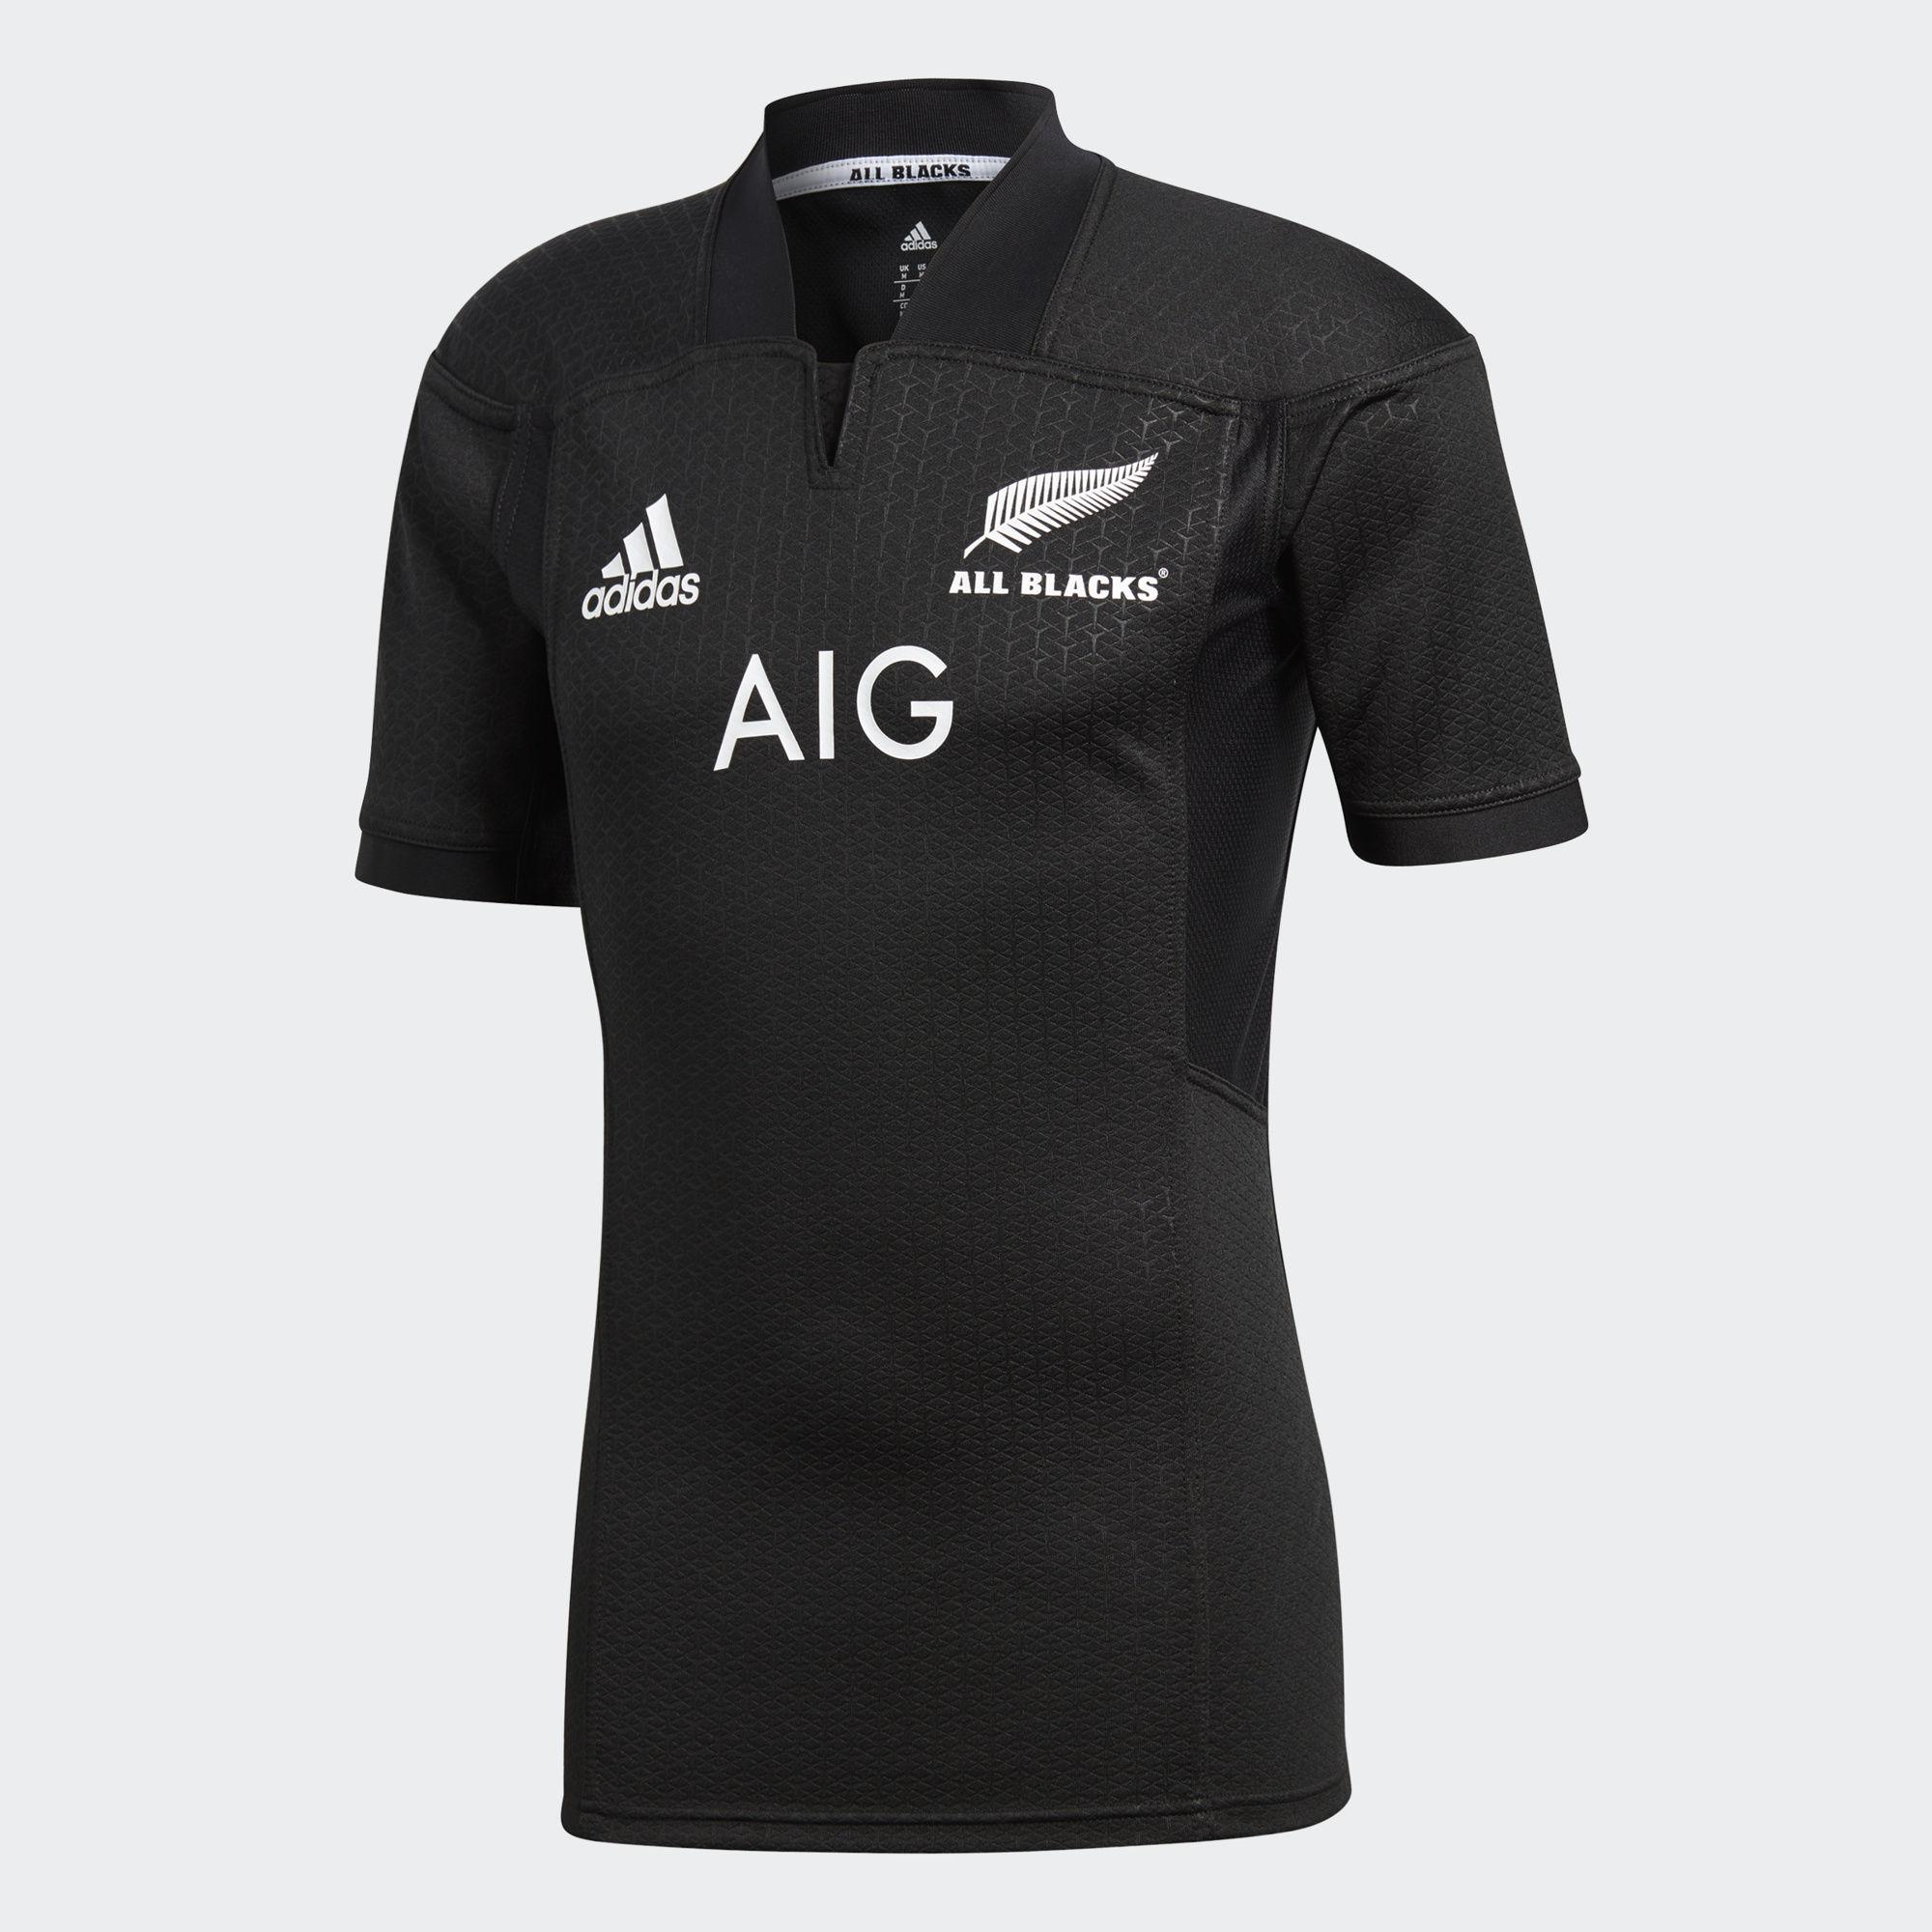teeshirt: (317, 73, 1626, 1861)
